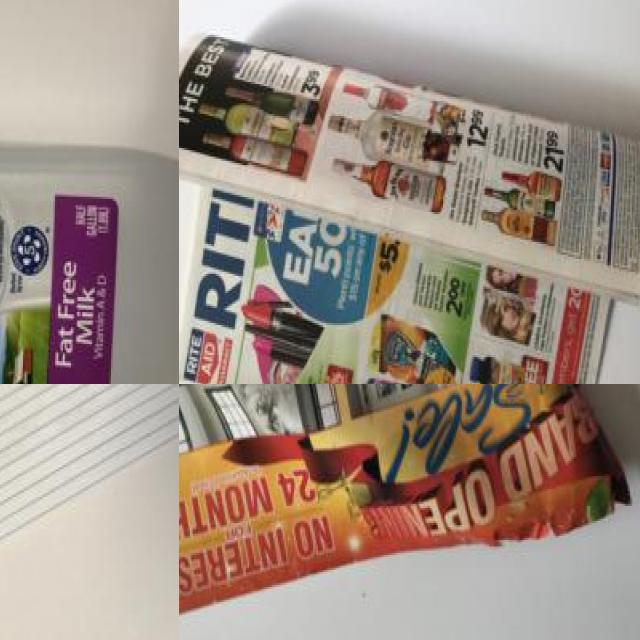paper: (179, 38, 640, 384), (179, 384, 630, 578), (0, 384, 179, 535)
plastic: (0, 148, 179, 384)
